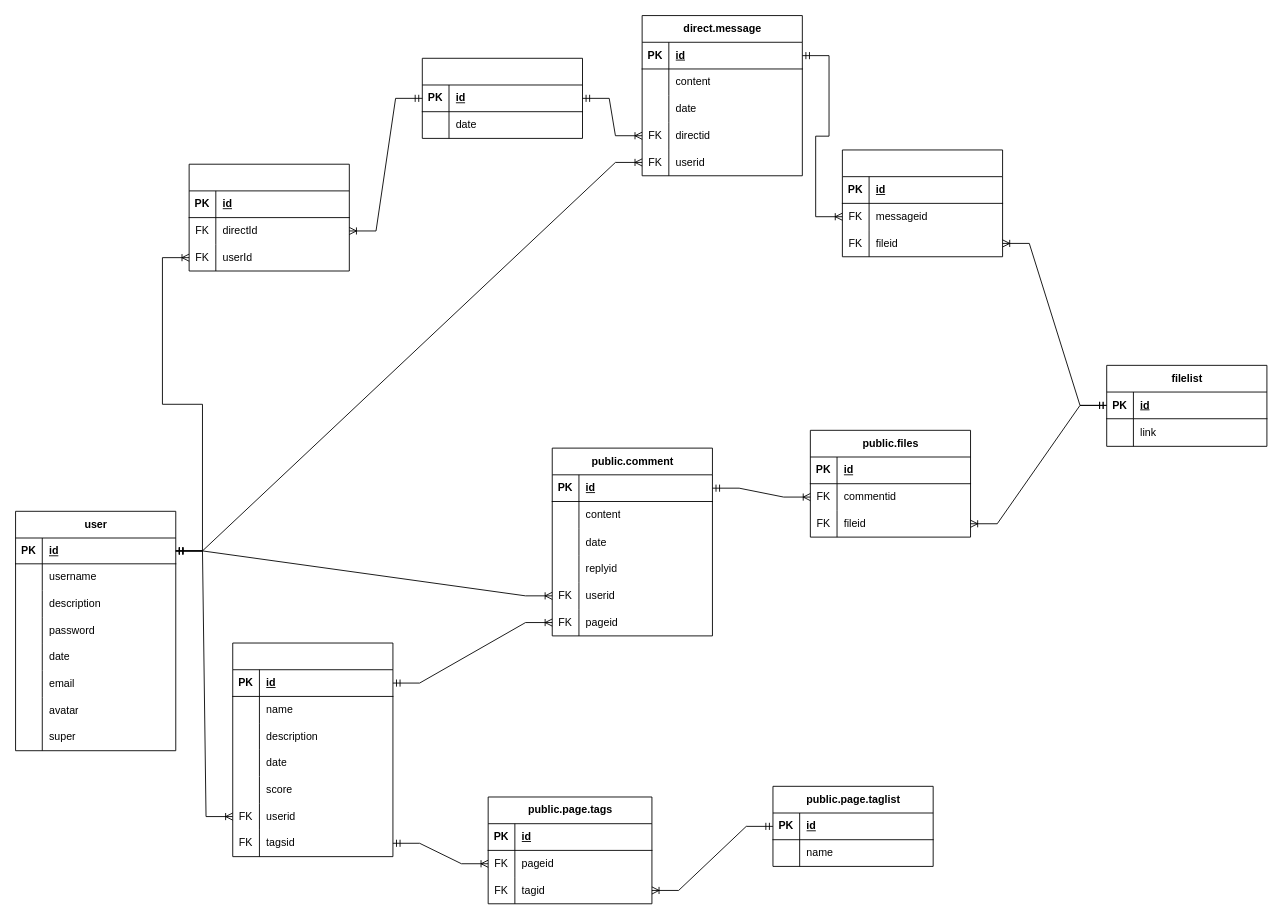
Image size: 1282x919. Some labels were removed from this diagram. The box of each missing label's shape, as (x1, y1, x2, y2) in pixels:
direct: (421, 57, 583, 138)
direct.files: (841, 149, 1003, 257)
directs: (188, 163, 349, 271)
public.page: (232, 642, 393, 857)
